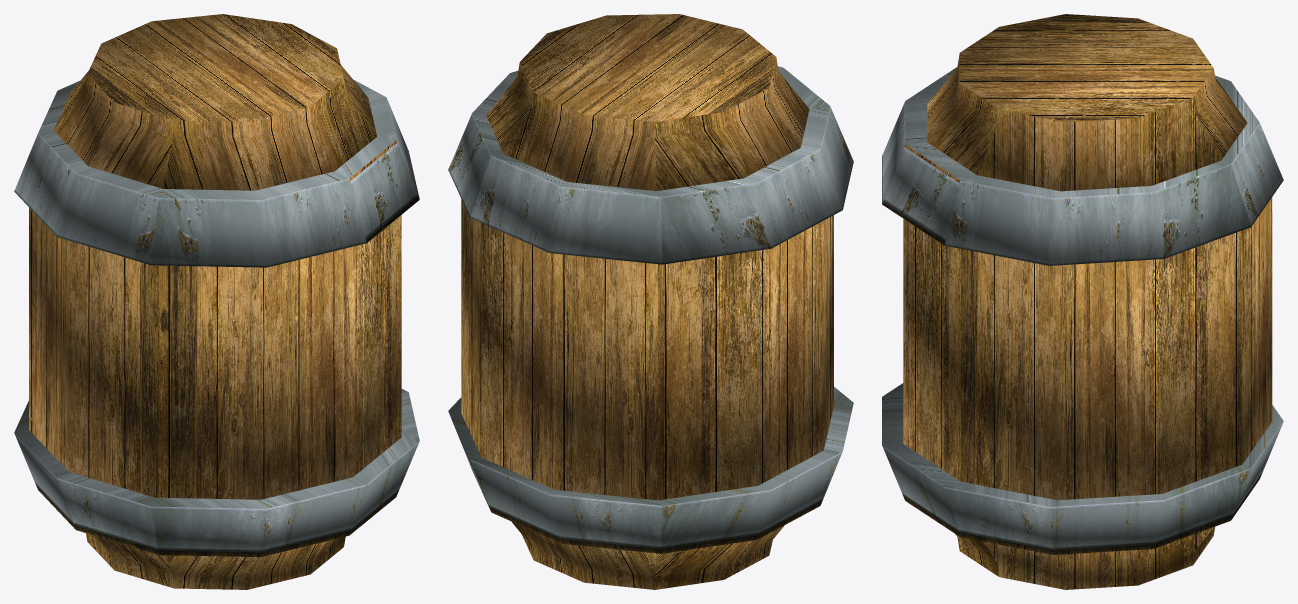
Rendered from Barrel.fbx.
The picture shows the model from 3 angles, left to right: view 1: azimuth 30°, elevation 25°; view 2: azimuth 150°, elevation 25°; view 3: azimuth 270°, elevation 25°; orthographic projection.
Visible parts, largest first — view 1: BarrelMesh; view 2: BarrelMesh; view 3: BarrelMesh.
Part boxes in pixels (x1=…): BarrelMesh: x1=14, y1=14, x2=419, y2=589; BarrelMesh: x1=448, y1=14, x2=853, y2=589; BarrelMesh: x1=882, y1=14, x2=1283, y2=589.
Bounding box in the file's own units: 0.9805 × 1.25 × 0.9705.
